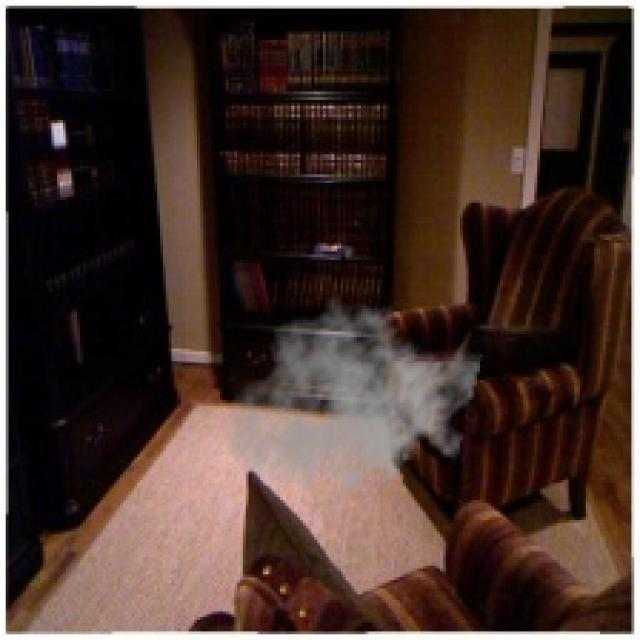smoke: (223, 294, 483, 517)
